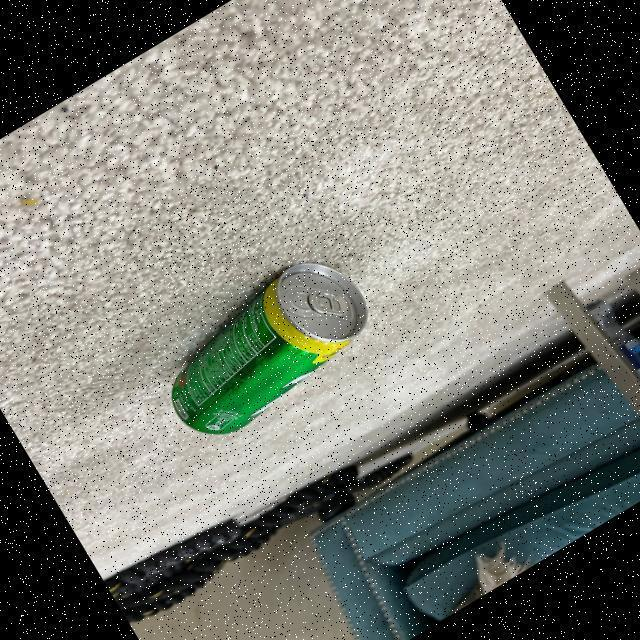can: (137, 240, 390, 456)
